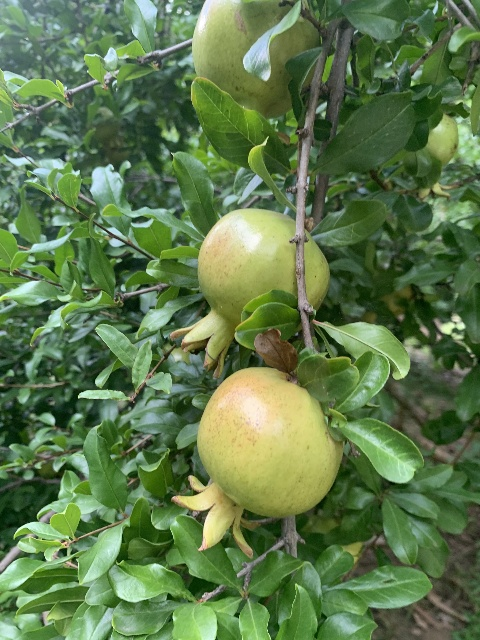mid-growth: (170, 367, 342, 559), (168, 208, 330, 379), (191, 0, 320, 146), (403, 112, 461, 200)
